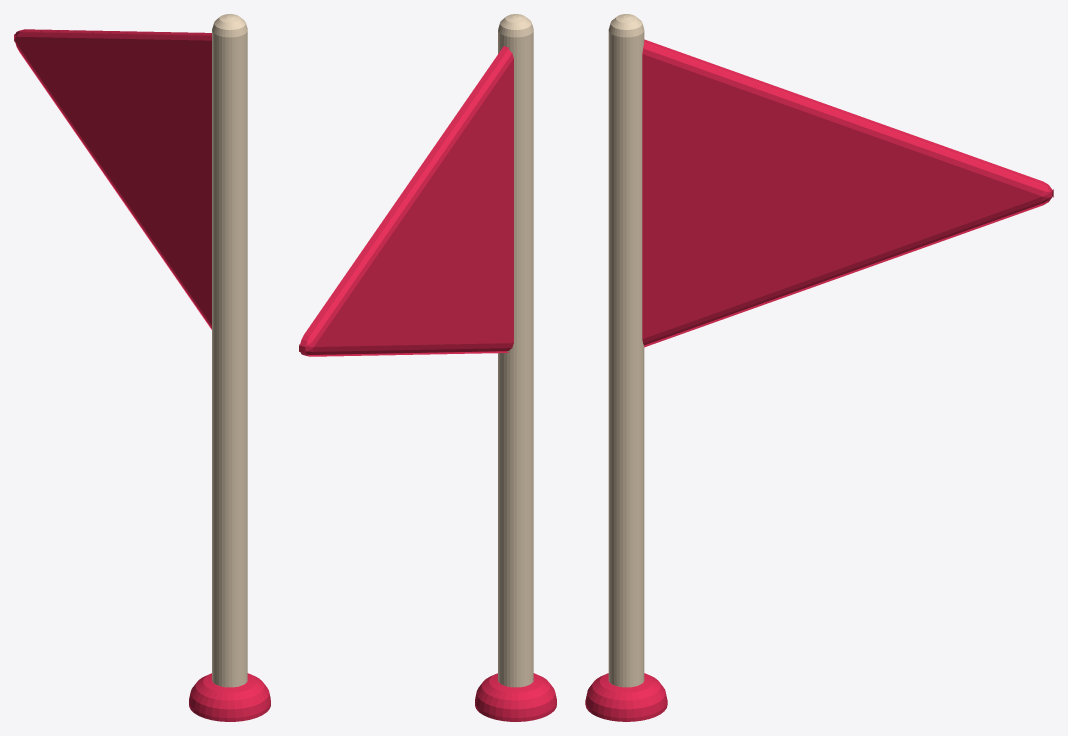
File: house_flag_a01.glb
3 views of the same model, side by side, from view 1: azimuth 30°, elevation 25°; view 2: azimuth 150°, elevation 25°; view 3: azimuth 270°, elevation 25° (orthographic).
Parts seen in each view (by area): view 1: Cylinder.055; view 2: Cylinder.055; view 3: Cylinder.055.
Part boxes in pixels (box(x1,y1,x2,y2)): Cylinder.055: box(14, 14, 270, 721); Cylinder.055: box(299, 14, 556, 721); Cylinder.055: box(585, 14, 1053, 721).
Bounding box in the file's own units: 0.3511 × 3.24 × 2.
